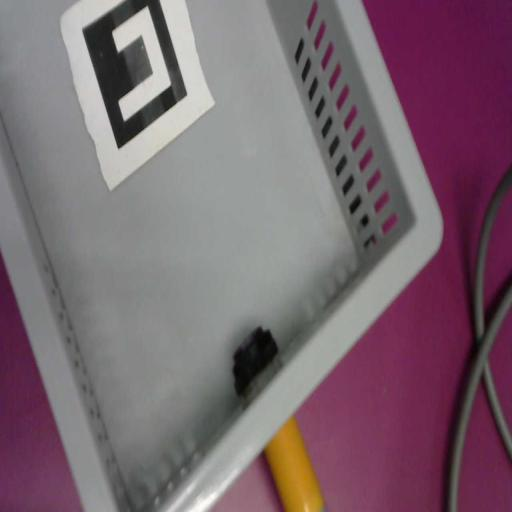QR: (60, 0, 216, 193)
